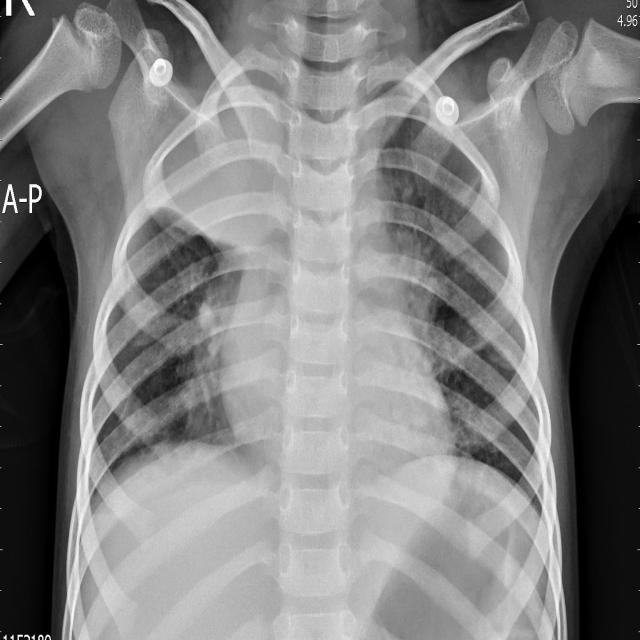high-pneumonia: (147, 83, 278, 256)
low-pneumonia: (382, 187, 473, 364), (179, 304, 233, 445)
